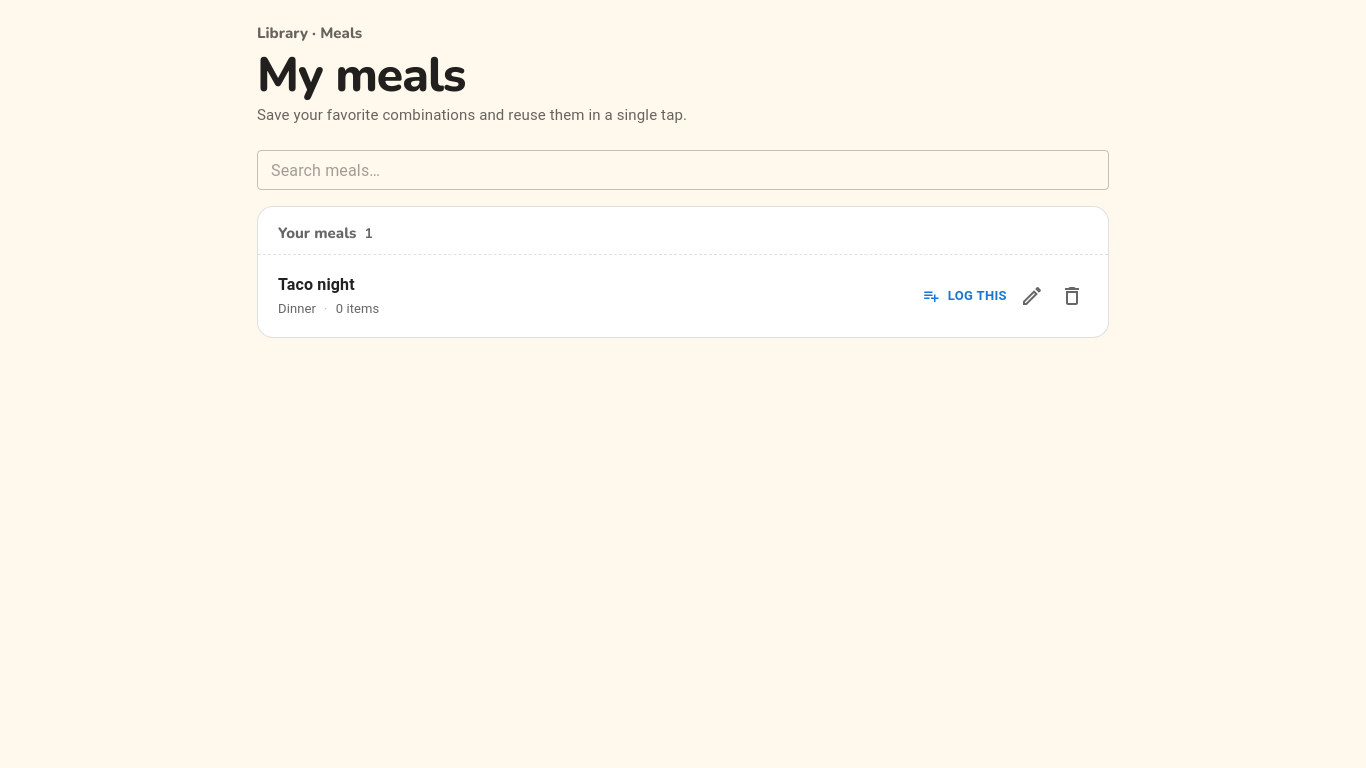
Test: My Meals: Log this, under the thumb › puts "Log it" in the bottom bar on a phone, and only there
Click the button with aria-label "Log Taco night". click: (965, 296)
box: [919,274,1012,318]
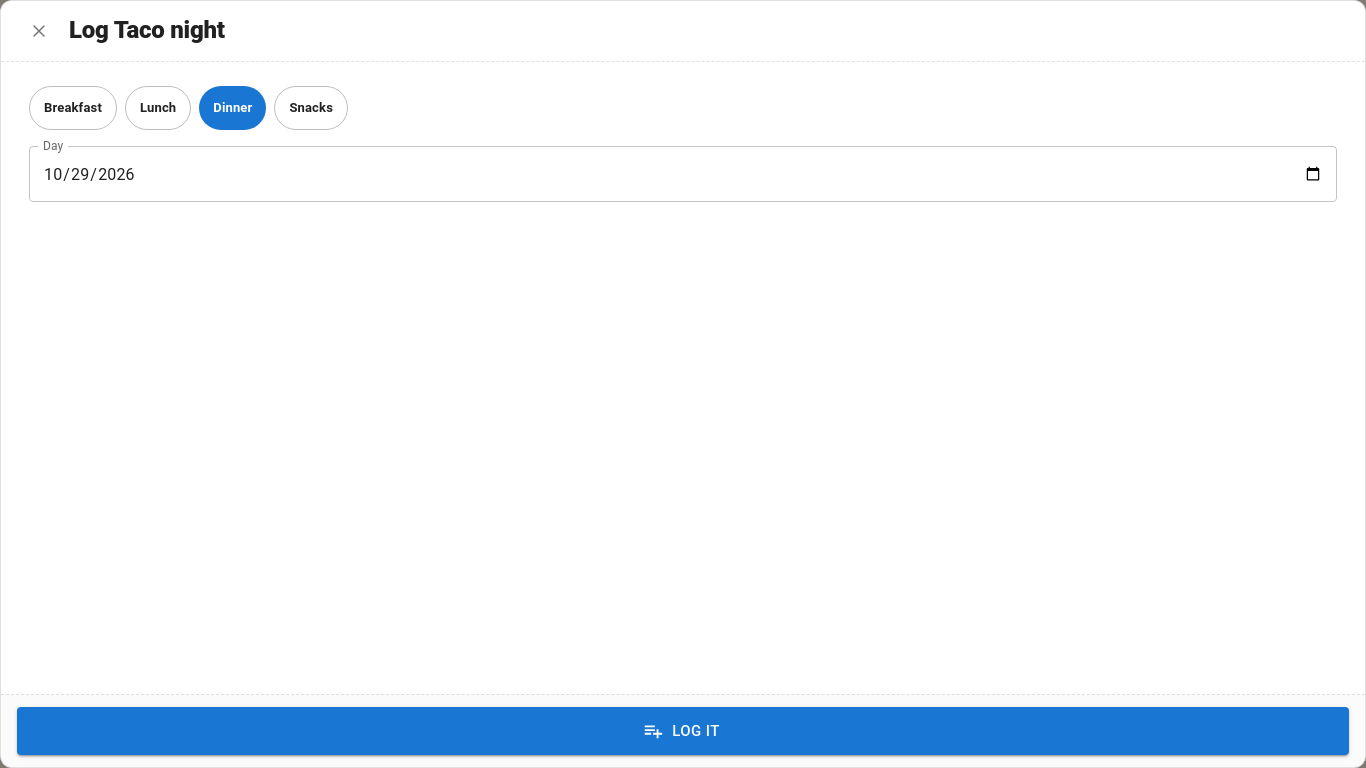
Result: the number of buttons "Log it" is 1 at [17,707,1349,755]
